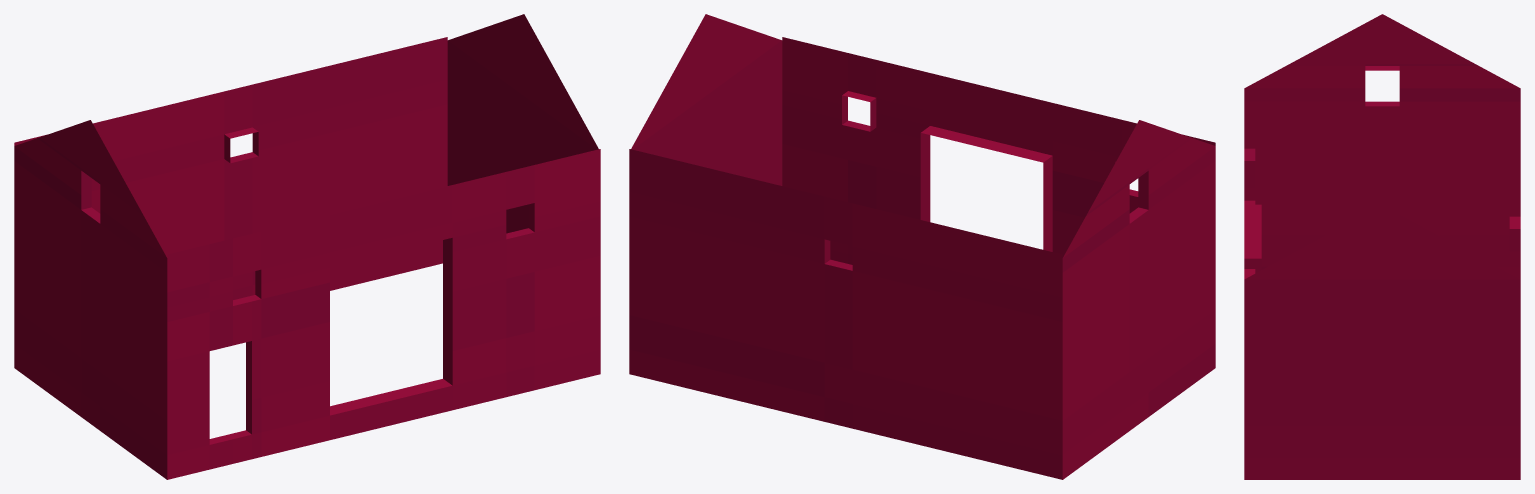
The model's file is SM_Bld_179_Masonry.glb.
The picture shows the model from 3 angles, left to right: view 1: azimuth 30°, elevation 25°; view 2: azimuth 150°, elevation 25°; view 3: azimuth 270°, elevation 25°; orthographic projection. The views are drawn at different scales.
Visible parts, largest first — view 1: SM_Bld_179_Masonry; view 2: SM_Bld_179_Masonry; view 3: SM_Bld_179_Masonry.
Part boxes in pixels (x1,y1,x2,y2): SM_Bld_179_Masonry: (14,14,600,479); SM_Bld_179_Masonry: (629,14,1215,479); SM_Bld_179_Masonry: (1244,14,1520,479).
Bounding box in the file's own units: 9.2 × 6.17 × 5.62.
